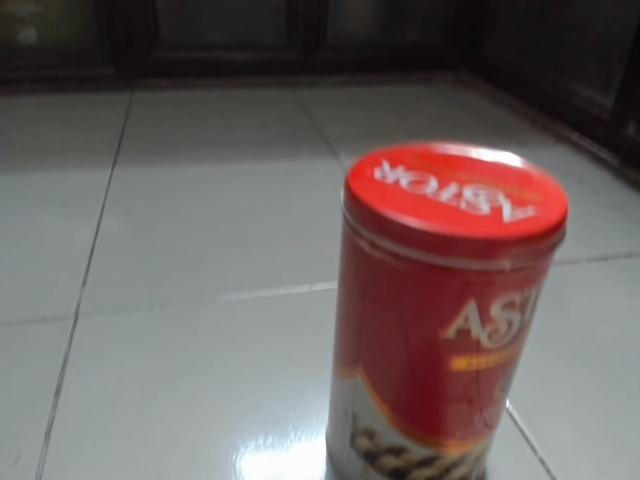anorganik: (322, 135, 579, 480)
